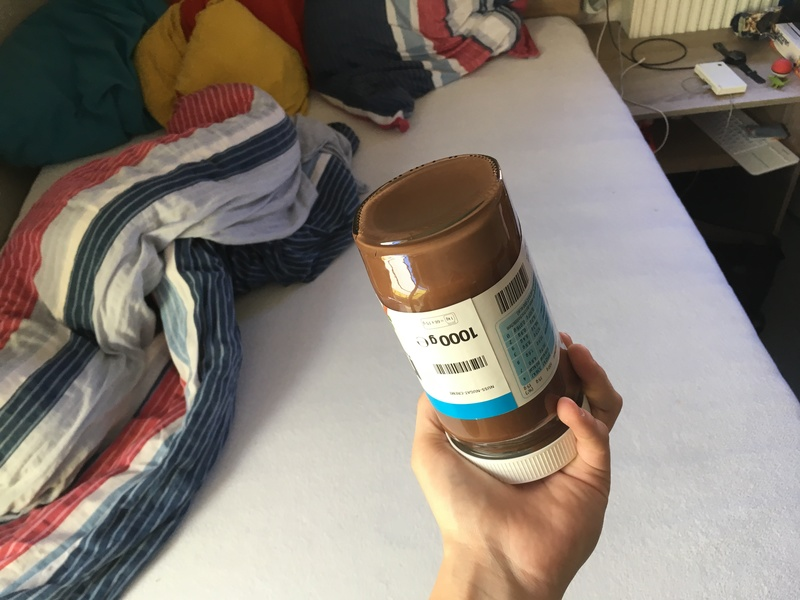nutella: (352, 154, 593, 485)
